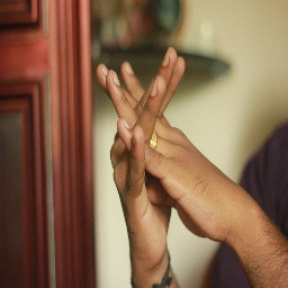W: (91, 38, 215, 221)
